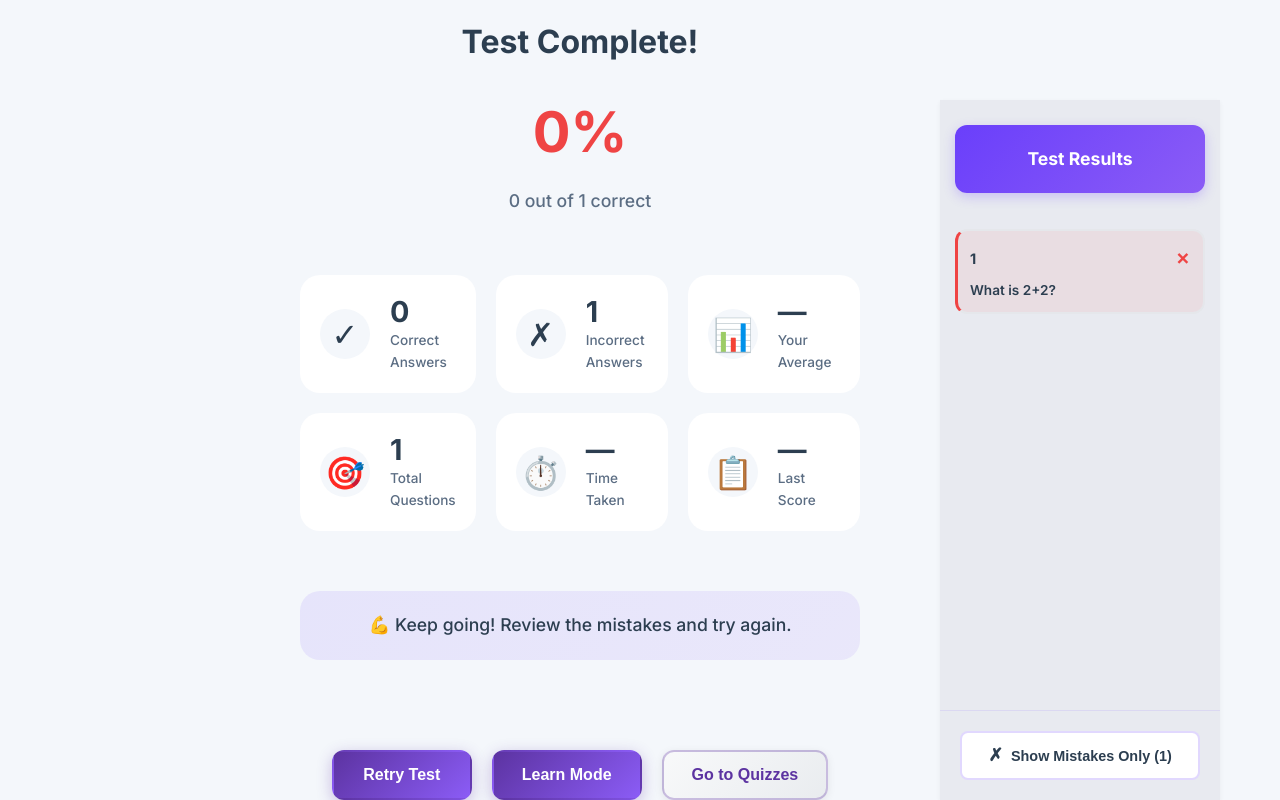
Scenario: TestResultsPage › handles empty user answer
(page scrolled)
Click the element with class "timeline-card" at {"x": 1080, "y": 271}, box [955, 229, 1205, 314]
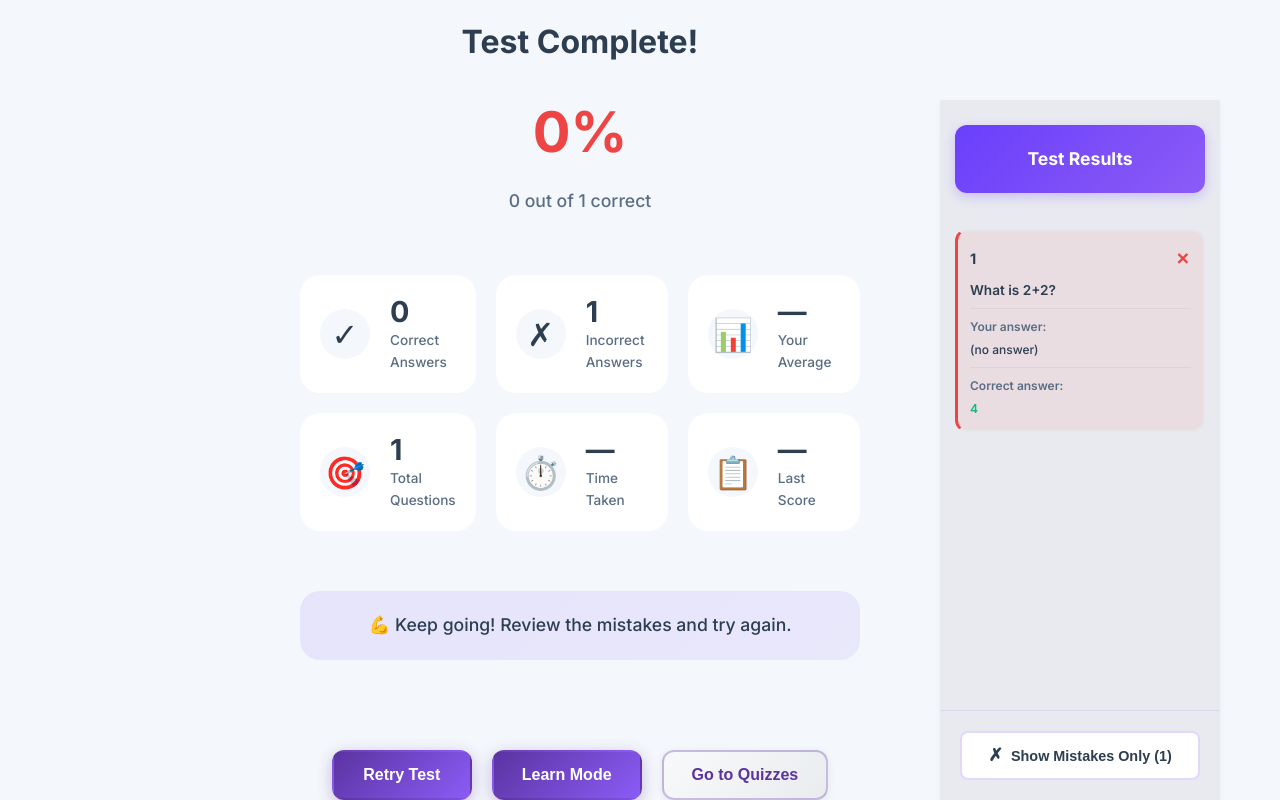
Check: the text "(no answer)" is shown, box [970, 342, 1038, 357]
